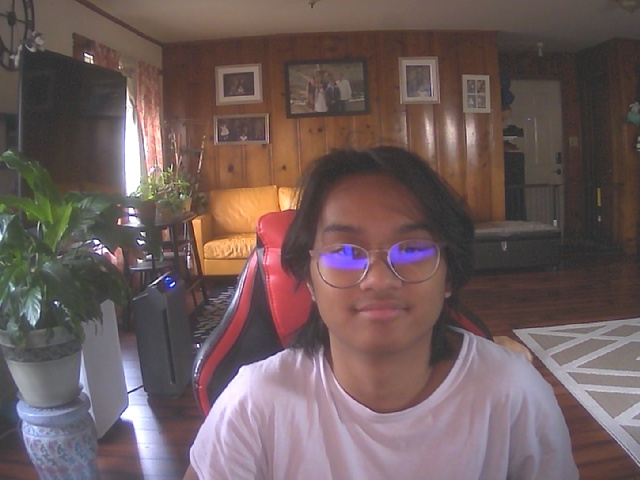happy: (303, 154, 458, 354)
